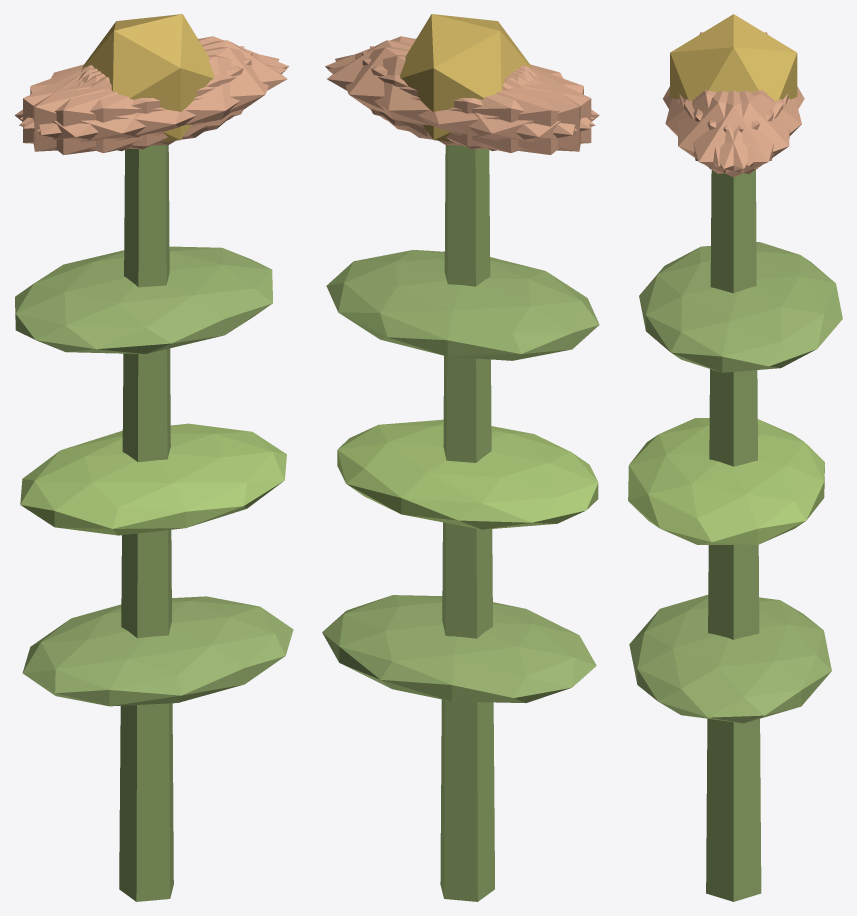
Rendered from malpighia-emarginata.glb.
3 renders of one model, left to right at view 1: azimuth 30°, elevation 25°; view 2: azimuth 150°, elevation 25°; view 3: azimuth 270°, elevation 25°, orthographic.
Parts seen in each view (by area): view 1: stem, leaf1, leaf0, leaf2, center, petal1, petal6, petal2, petal5, petal7, petal0, petal4 (+2 smaller); view 2: stem, leaf2, leaf0, leaf1, center, petal8, petal3, petal7, petal4, petal2, petal0, petal5 (+2 smaller); view 3: stem, leaf2, leaf0, leaf1, center, petal0, petal5, petal4, petal8, petal1.
Part boxes in pixels (bbox=[...]): stem: bbox=[119, 145, 173, 901]; leaf1: bbox=[20, 423, 286, 535]; leaf0: bbox=[22, 596, 293, 706]; leaf2: bbox=[15, 246, 272, 353]; center: bbox=[82, 14, 214, 142]; petal1: bbox=[19, 54, 286, 152]; petal6: bbox=[14, 66, 208, 154]; petal2: bbox=[33, 46, 244, 151]; petal5: bbox=[37, 47, 279, 146]; petal7: bbox=[23, 51, 252, 149]; petal0: bbox=[82, 40, 287, 136]; petal4: bbox=[20, 36, 289, 128]; stem: bbox=[440, 145, 494, 901]; leaf2: bbox=[326, 250, 599, 360]; leaf0: bbox=[322, 595, 596, 702]; leaf1: bbox=[337, 419, 598, 529]; center: bbox=[400, 14, 531, 142]; petal8: bbox=[327, 54, 595, 152]; petal3: bbox=[405, 66, 599, 154]; petal7: bbox=[370, 46, 580, 151]; petal4: bbox=[335, 47, 576, 146]; petal2: bbox=[362, 51, 591, 149]; petal0: bbox=[327, 40, 532, 136]; petal5: bbox=[325, 36, 593, 128]; stem: bbox=[706, 169, 761, 901]; leaf2: bbox=[639, 242, 842, 372]; leaf0: bbox=[629, 595, 831, 723]; leaf1: bbox=[628, 418, 824, 544]; center: bbox=[670, 14, 797, 100]; petal0: bbox=[679, 90, 788, 177]; petal5: bbox=[677, 90, 783, 173]; petal4: bbox=[684, 90, 789, 173]; petal8: bbox=[693, 90, 801, 166]; petal1: bbox=[665, 90, 773, 166].
Bounding box in the file's own units: 0.1452 × 0.4566 × 0.1035.
